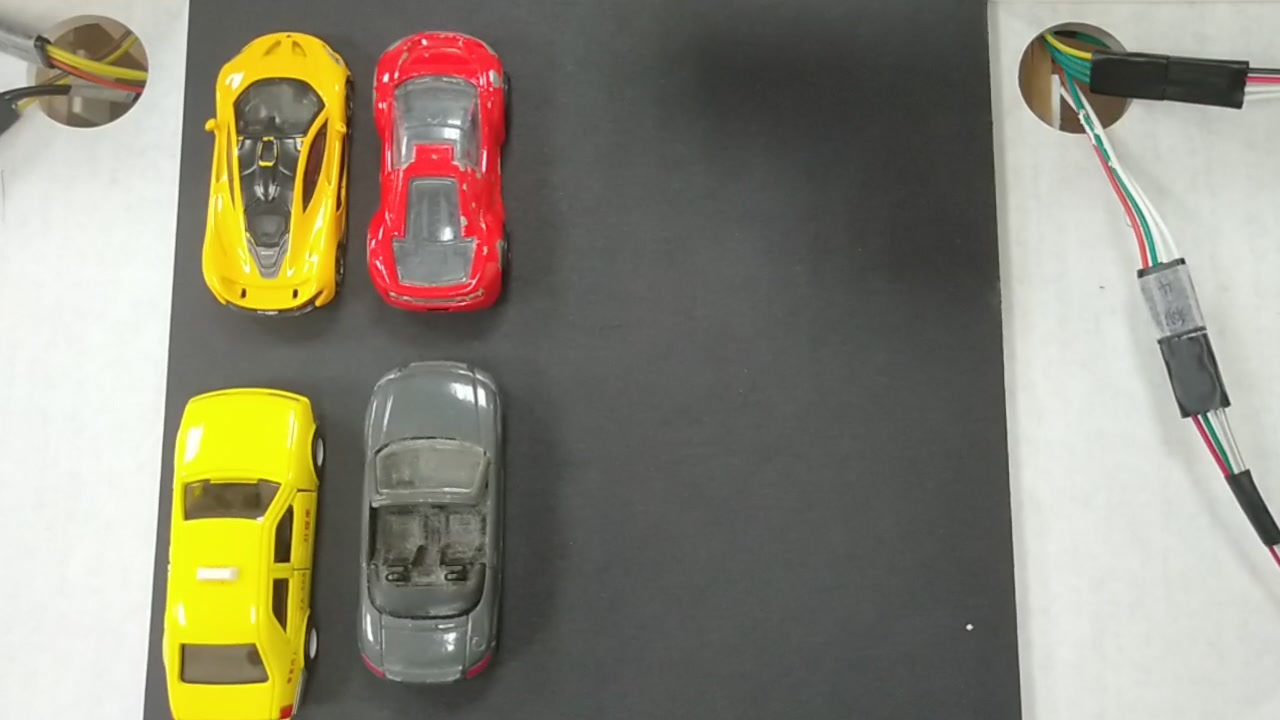car: (163, 389, 314, 715), (359, 361, 507, 686), (206, 36, 350, 308), (369, 31, 502, 305)
